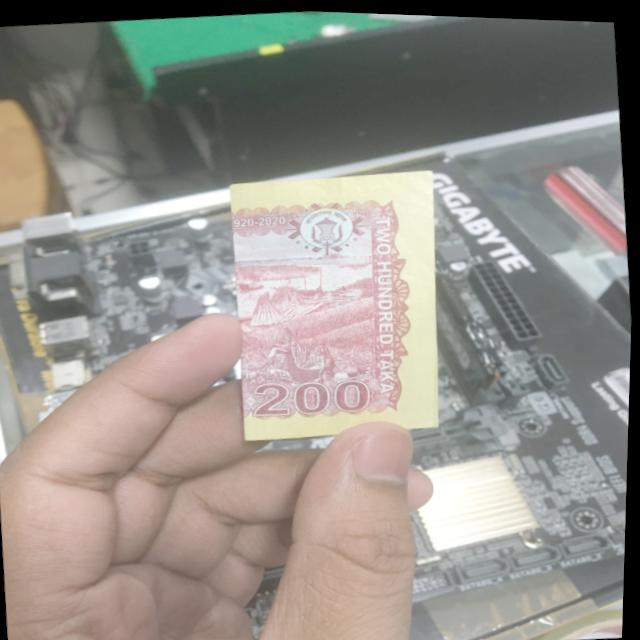Taka: (223, 163, 454, 438)
